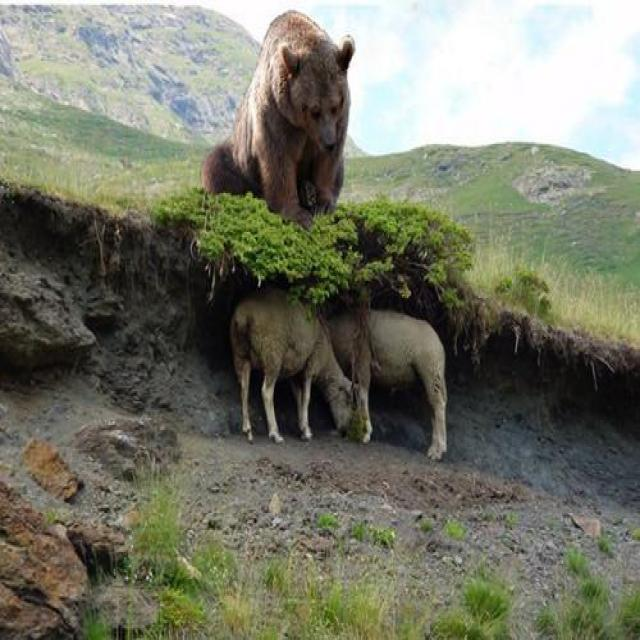Bear: (200, 10, 356, 230)
